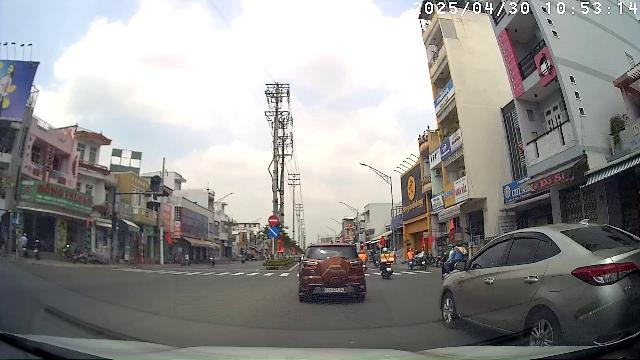102-cam-di-nguoc-chieu: (268, 215, 280, 226)
302a-huong-phai-di-vong-chuong-ngai-vat-1: (267, 226, 280, 237)
